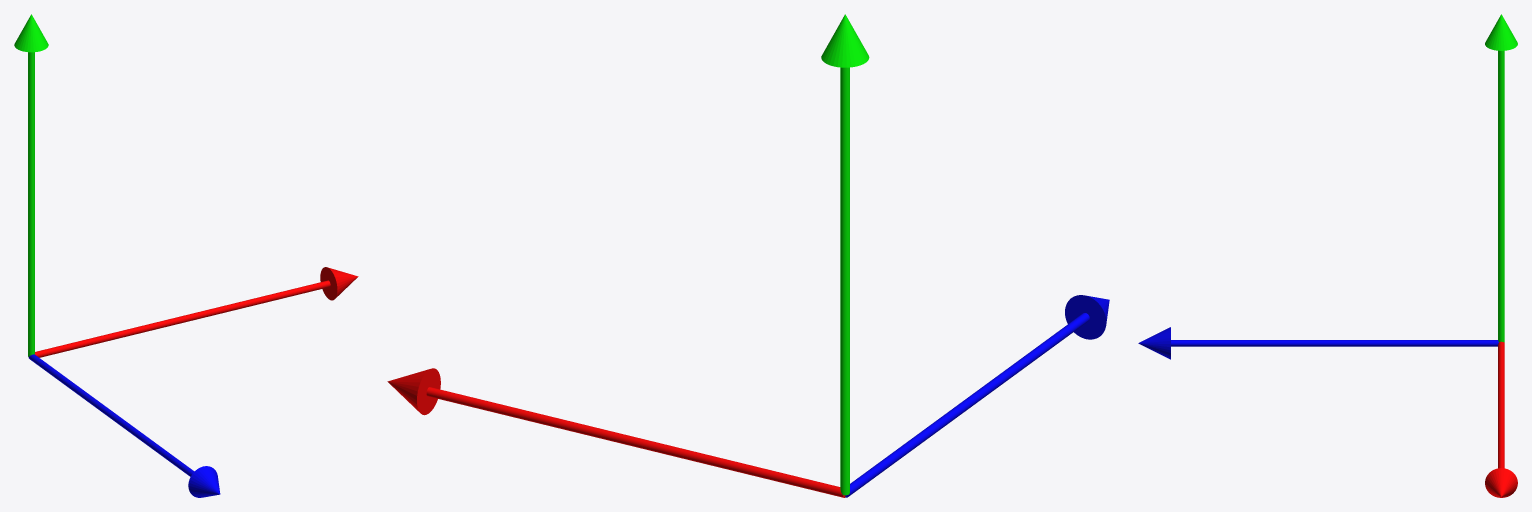
The model's file is csys.glb.
3 views of the same model, side by side, from view 1: azimuth 30°, elevation 25°; view 2: azimuth 150°, elevation 25°; view 3: azimuth 270°, elevation 25° (orthographic). The views are drawn at different scales.
Parts seen in each view (by area): view 1: 柱体, 柱体.003, 柱体.002, 锥体.002, 锥体.003, 锥体; view 2: 柱体, 柱体.003, 柱体.002, 锥体.003, 锥体.002, 锥体; view 3: 柱体.002, 柱体.003, 柱体, 锥体, 锥体.003, 锥体.002.
Boxes of the visible parts, box(x1,y1,x2,y2) form: 柱体: box(35, 280, 330, 357); 柱体.003: box(28, 52, 34, 356); 柱体.002: box(28, 354, 194, 476); 锥体.002: box(188, 466, 220, 497); 锥体.003: box(14, 14, 48, 52); 锥体: box(320, 267, 358, 300); 柱体: box(426, 387, 845, 497); 柱体.003: box(840, 67, 849, 495); 柱体.002: box(845, 313, 1089, 497); 锥体.003: box(821, 14, 869, 67); 锥体.002: box(1065, 295, 1109, 339); 锥体: box(387, 368, 440, 415); 柱体.002: box(1171, 340, 1498, 346); 柱体.003: box(1498, 50, 1504, 342); 柱体: box(1498, 341, 1504, 468); 锥体: box(1485, 468, 1517, 497); 锥体.003: box(1485, 14, 1517, 50); 锥体.002: box(1138, 327, 1170, 359).
Bounding box in the file's own units: 0.23 × 0.23 × 0.23.
